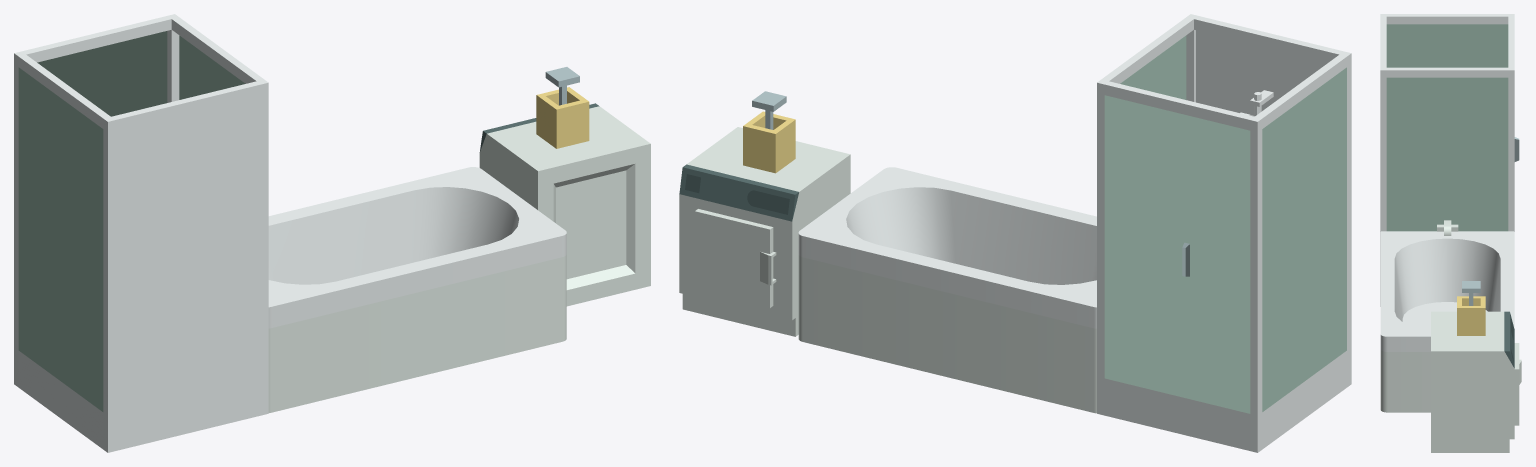
Rendered from 3BathfObstacleUpper.fbx.
3 renders of one model, left to right at view 1: azimuth 30°, elevation 25°; view 2: azimuth 150°, elevation 25°; view 3: azimuth 270°, elevation 25°, orthographic. The views are drawn at different scales.
Parts seen in each view (by area): view 1: shower, bathtub, dryer, lampSquareCeiling; view 2: shower, bathtub, dryer, lampSquareCeiling; view 3: shower, bathtub, dryer, lampSquareCeiling.
Part boxes in pixels (x1=…): shower: x1=14, y1=14, x2=268, y2=452; bathtub: x1=268, y1=167, x2=566, y2=412; dryer: x1=479, y1=103, x2=650, y2=306; lampSquareCeiling: x1=536, y1=67, x2=589, y2=148; shower: x1=1097, y1=14, x2=1351, y2=452; bathtub: x1=798, y1=167, x2=1096, y2=413; dryer: x1=679, y1=127, x2=850, y2=336; lampSquareCeiling: x1=743, y1=91, x2=795, y2=173; shower: x1=1380, y1=14, x2=1519, y2=306; bathtub: x1=1380, y1=220, x2=1514, y2=412; dryer: x1=1431, y1=311, x2=1521, y2=452; lampSquareCeiling: x1=1457, y1=281, x2=1485, y2=335.
Bounding box in the file's own units: 40 × 21.88 × 11.84.
